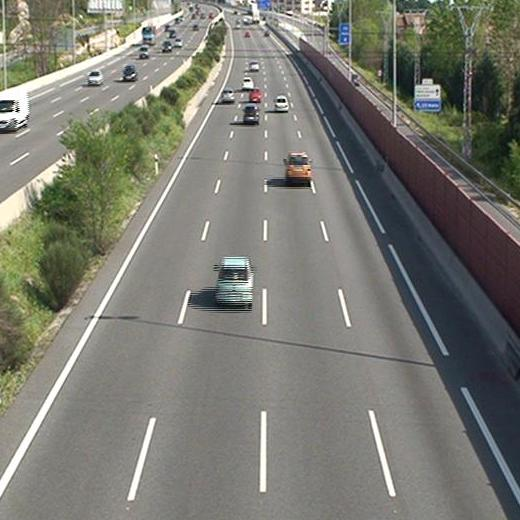car: (215, 256, 253, 304), (284, 152, 311, 182), (243, 106, 258, 122), (274, 96, 288, 110), (248, 87, 261, 101), (221, 88, 233, 103), (240, 77, 253, 87), (249, 61, 258, 69)
